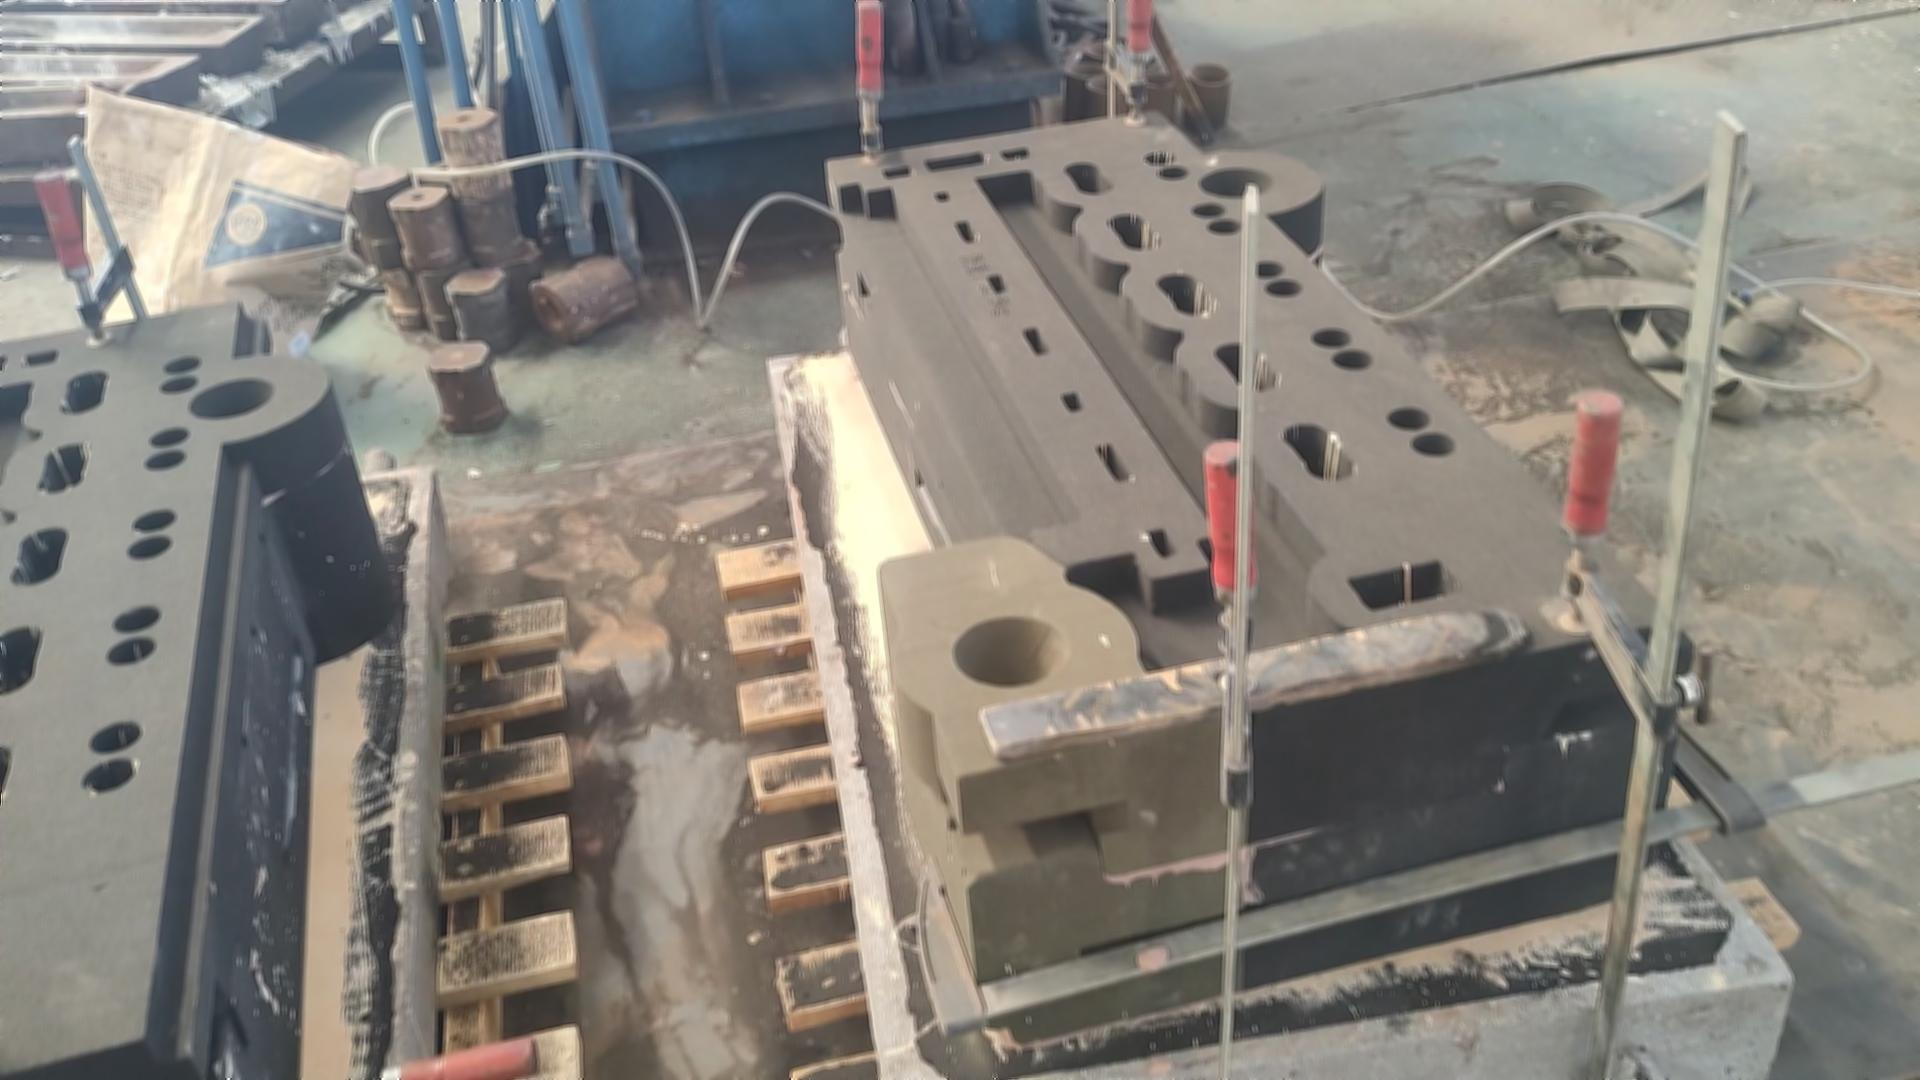pouring hole: (952, 616, 1065, 687), (189, 378, 274, 417), (1199, 167, 1273, 196), (1188, 65, 1233, 84), (1087, 73, 1121, 95), (1085, 40, 1124, 58), (1139, 71, 1179, 88), (1065, 62, 1108, 78), (1126, 55, 1163, 73)
